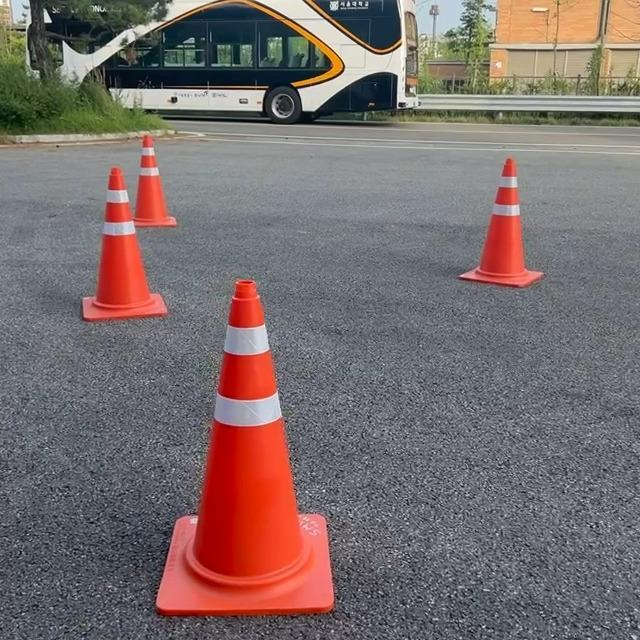fallen_object: (149, 256, 366, 640), (76, 166, 192, 357), (436, 136, 550, 313), (117, 120, 193, 248)
